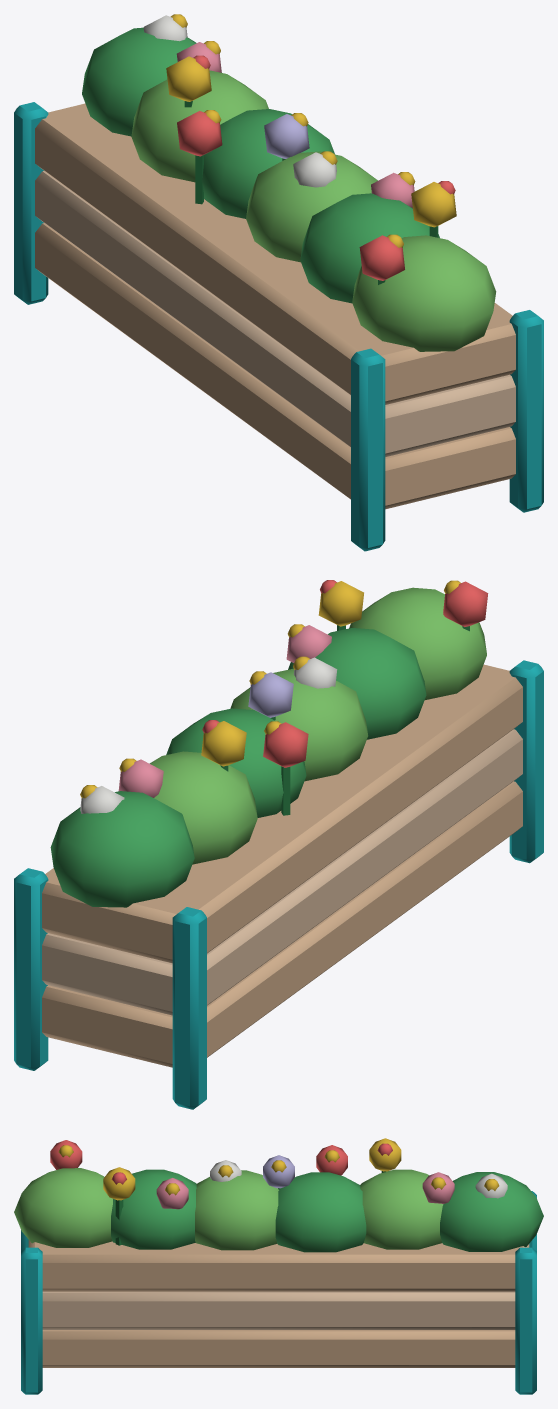
The model's file is planter.glb.
3 renders of one model, top to bottom at view 1: azimuth 30°, elevation 25°; view 2: azimuth 150°, elevation 25°; view 3: azimuth 270°, elevation 25°, orthographic. The views are drawn at different scales.
Parts seen in each view (by area): view 1: Planter; view 2: Planter; view 3: Planter.
Part boxes in pixels (x1,y1,x2,y2): Planter: [14, 14, 543, 551]; Planter: [14, 580, 543, 1109]; Planter: [14, 1138, 543, 1394].
Bounding box in the file's own units: 0.5 × 0.7733 × 1.69.
